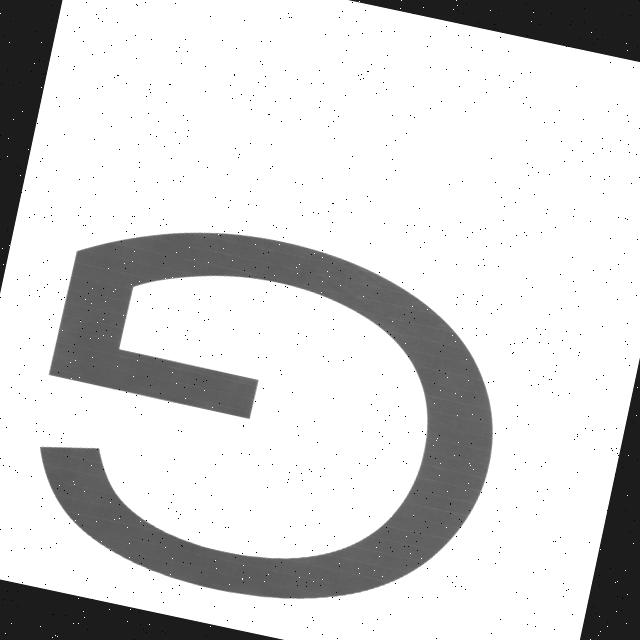g: (0, 150, 555, 640)
